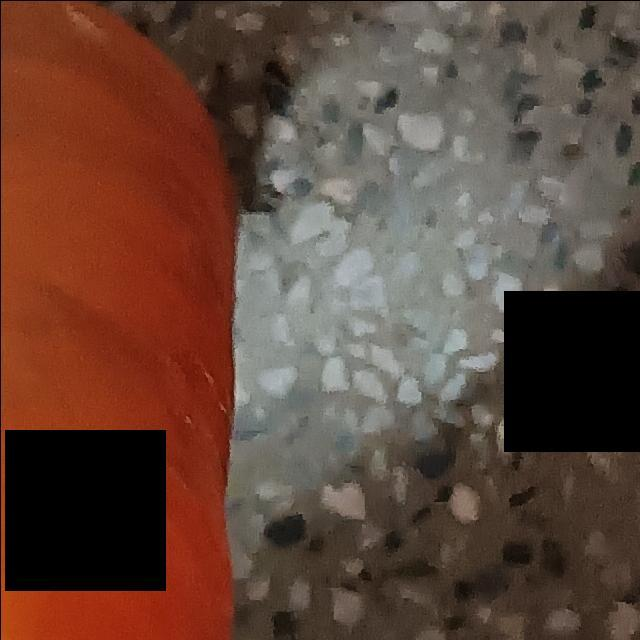carrot: (1, 1, 255, 640)
